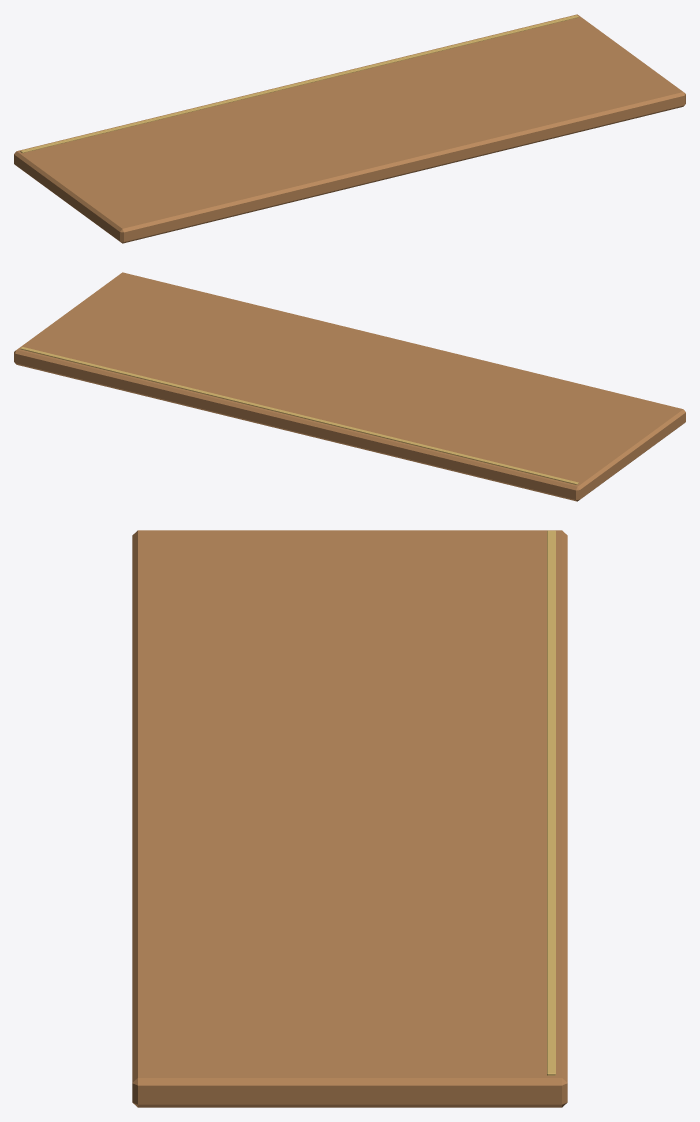
Rendered from SM_Stage.obj.
The picture shows the model from 3 angles, top to bottom: view 1: azimuth 30°, elevation 25°; view 2: azimuth 150°, elevation 25°; view 3: azimuth 270°, elevation 25°; orthographic projection. The views are drawn at different scales.
Visible parts, largest first — view 1: SM_Stage; view 2: SM_Stage; view 3: SM_Stage.
Boxes of the visible parts, bbox=[...] form: SM_Stage: bbox=[14, 14, 685, 243]; SM_Stage: bbox=[14, 272, 685, 501]; SM_Stage: bbox=[132, 530, 567, 1107].
Size of the model in its own units: 12 by 0.3225 by 4.
